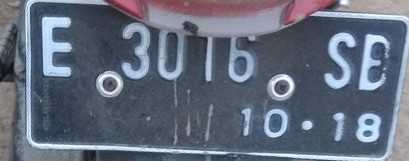plate: (24, 1, 405, 159)
